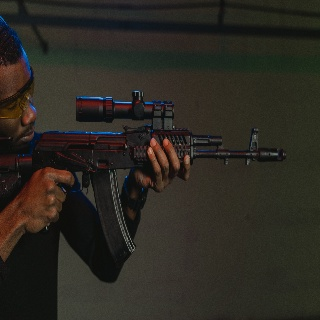rifle: (1, 89, 288, 268)
